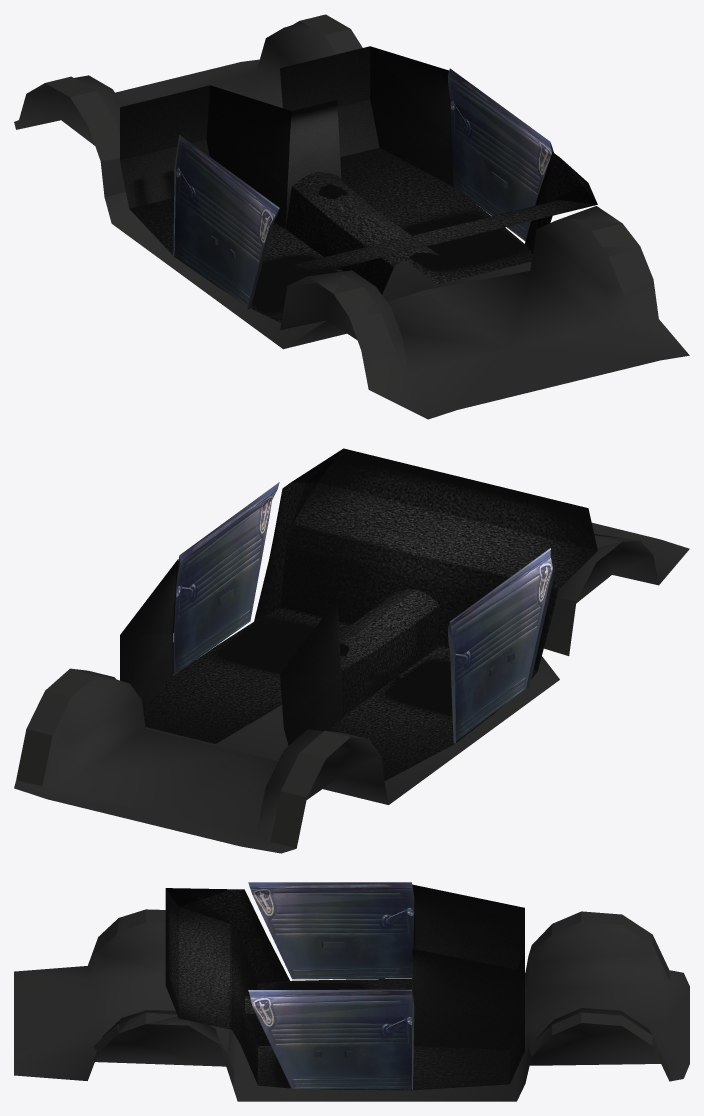
File: interior.dae
The picture shows the model from 3 angles, top to bottom: view 1: azimuth 30°, elevation 25°; view 2: azimuth 150°, elevation 25°; view 3: azimuth 270°, elevation 25°; orthographic projection. The views are drawn at different scales.
Parts seen in each view (by area): view 1: wheel_wells, walls, floor, door_cards; view 2: floor, wheel_wells, door_cards, walls; view 3: wheel_wells, door_cards, floor, walls.
Part boxes in pixels (left/top/right/bottom): wheel_wells: left=14, top=14, right=689, bottom=419; walls: left=120, top=46, right=453, bottom=228; floor: left=129, top=147, right=597, bottom=322; door_cards: left=173, top=68, right=553, bottom=309; floor: left=143, top=448, right=597, bottom=780; wheel_wells: left=14, top=522, right=689, bottom=853; door_cards: left=173, top=482, right=554, bottom=743; walls: left=120, top=559, right=342, bottom=745; wheel_wells: left=14, top=909, right=689, bottom=1101; door_cards: left=248, top=882, right=414, bottom=1089; floor: left=165, top=888, right=509, bottom=1090; walls: left=412, top=884, right=524, bottom=1083.
Bounding box in the file's own units: 1.5 × 3.69 × 0.6657.
Materials: 4 (3 with a texture image).
